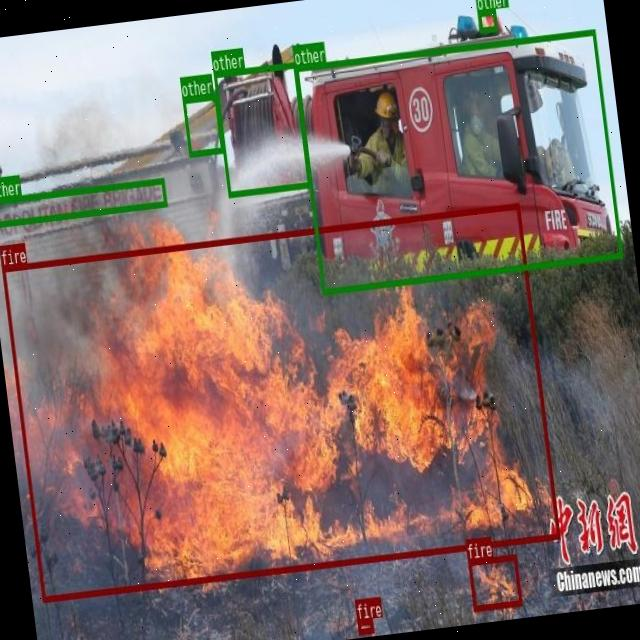fire: (1, 203, 559, 601), (467, 553, 521, 609), (357, 618, 373, 633)
